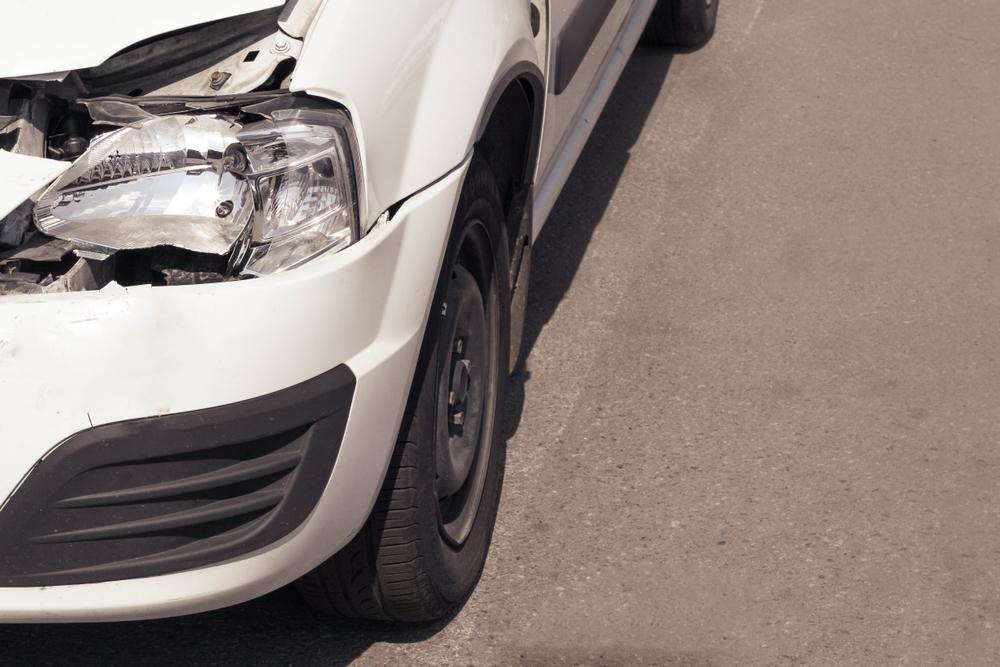lamp broken: (0, 96, 360, 294)
